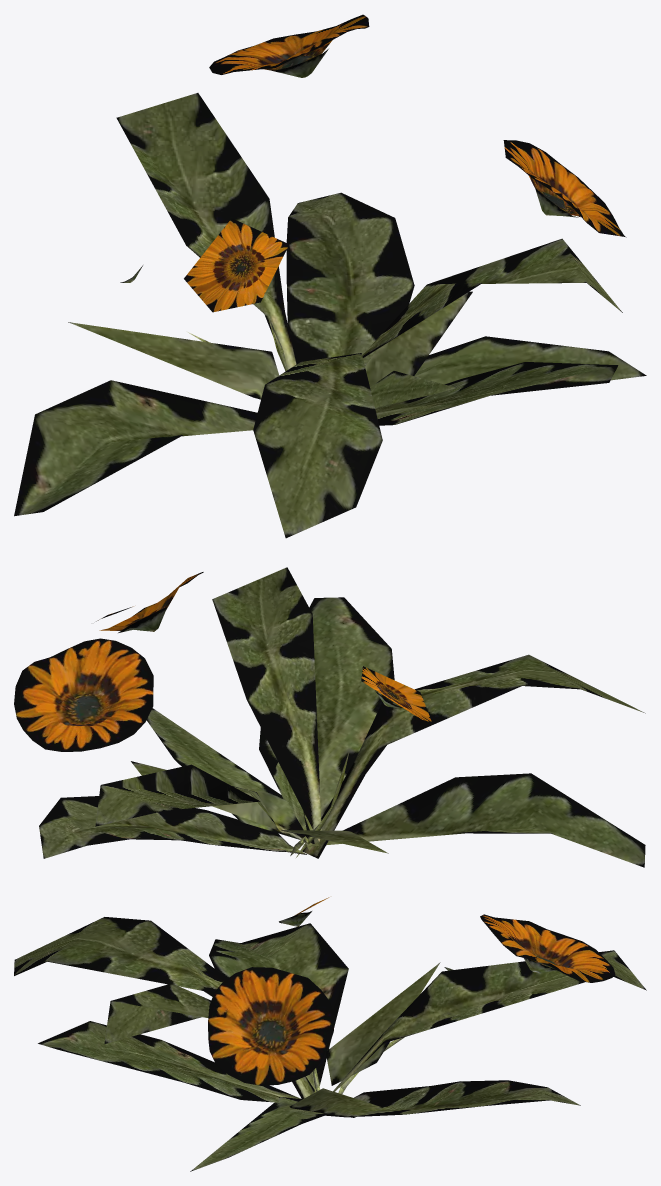
The model's file is flower_gazania_b.glb.
3 renders of one model, top to bottom at view 1: azimuth 30°, elevation 25°; view 2: azimuth 150°, elevation 25°; view 3: azimuth 270°, elevation 25°, orthographic. The views are drawn at different scales.
Visible parts, largest first — view 1: flower_gazania_b; view 2: flower_gazania_b; view 3: flower_gazania_b.
Boxes of the visible parts, left/top/right/bottom form: flower_gazania_b: left=14, top=14, right=646, bottom=538; flower_gazania_b: left=14, top=567, right=645, bottom=867; flower_gazania_b: left=14, top=897, right=646, bottom=1171.
Size of the model in its own units: 0.2694 by 0.122 by 0.2874.
1 material, 1 textured.
